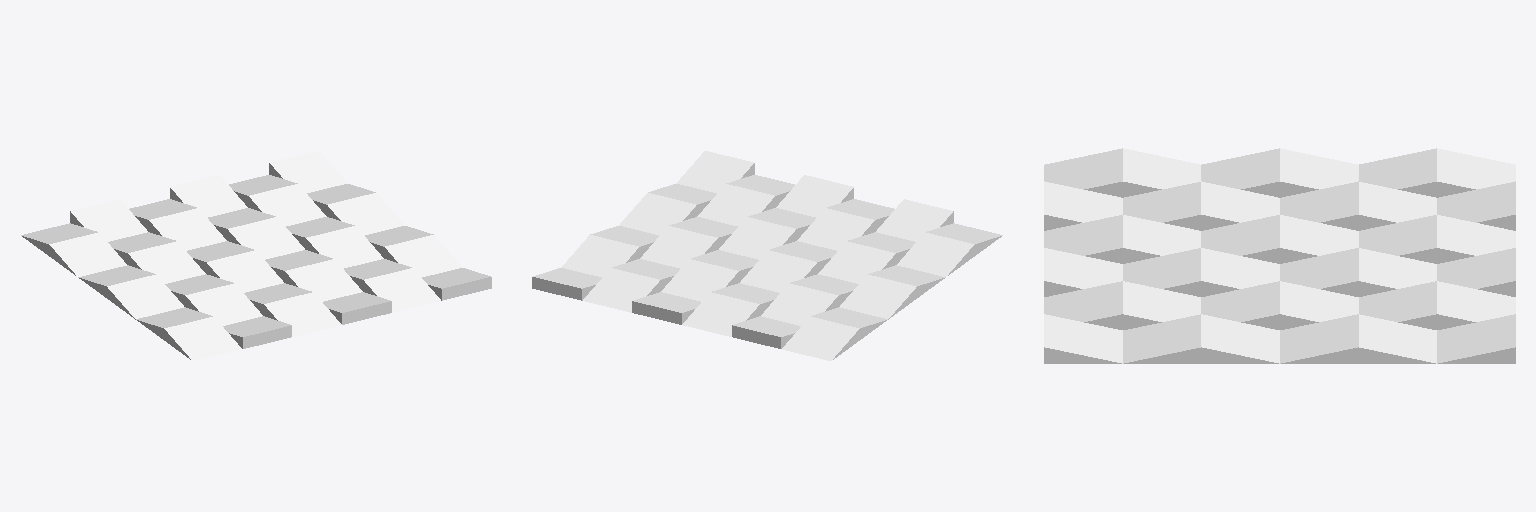
The robot description file, URDF, robot "sawtooth":
<?xml version="1.0" ?>
<robot name="sawtooth">
	<link name="base_link">
		<visual>
			<origin xyz="0 0 0" rpy="0 0 0" />
			<geometry>
				<mesh filename="sawtooth.stl" scale="1.0 1.0 1.0" />
			</geometry>
			<material name="texture">
				<color rgba="1.0 1.0 1.0 1.0" />
			</material>
		</visual>
		<collision>
			<geometry>
				<mesh filename="sawtooth.stl" scale="1.0 1.0 1.0" />
			</geometry>
		<origin xyz="0 0 0" rpy="0 0 0" /></collision>
		<inertial>
			<mass value="1000.0" />
			<inertia ixx="1.0" ixy="0.0" ixz="0.0" iyy="1.0" iyz="0.0" izz="1.0" />
		</inertial>
	</link>
</robot>

--- What the picture shows (computed from the rendered views, not written in the file) ---
3 views of the same robot in one strip: view 1: azimuth 30°, elevation 25°; view 2: azimuth 150°, elevation 25°; view 3: azimuth 270°, elevation 25° (orthographic).
Robot: sawtooth — 1 links, 0 joints (none); root link base_link; default pose: all joints at 0.
Links seen in each view (by area): view 1: base_link; view 2: base_link; view 3: base_link.
Link boxes in pixels (box(x1,y1,x2,y2)): base_link: box(21, 151, 491, 360); base_link: box(532, 151, 1002, 360); base_link: box(1044, 148, 1515, 363).
Size in the robot's own frame: 3.66 by 3.66 by 0.14 metres.
1 mesh visuals loaded from 1 distinct referenced files (1 binary STL).